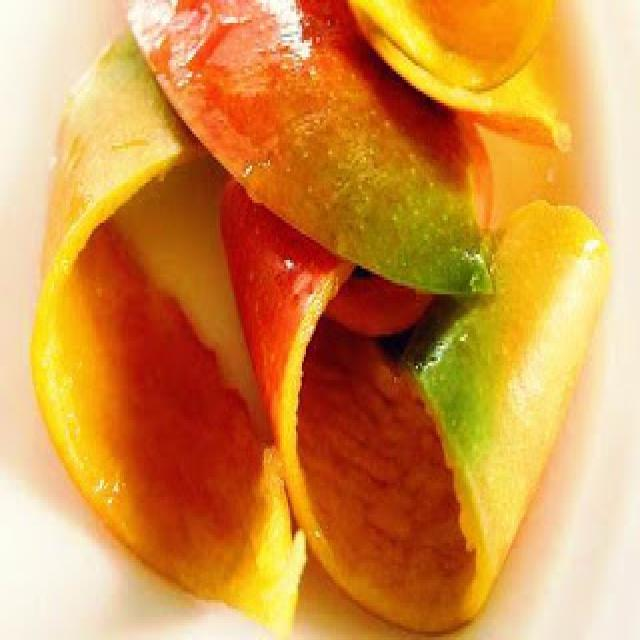Organik: (31, 0, 613, 639)
